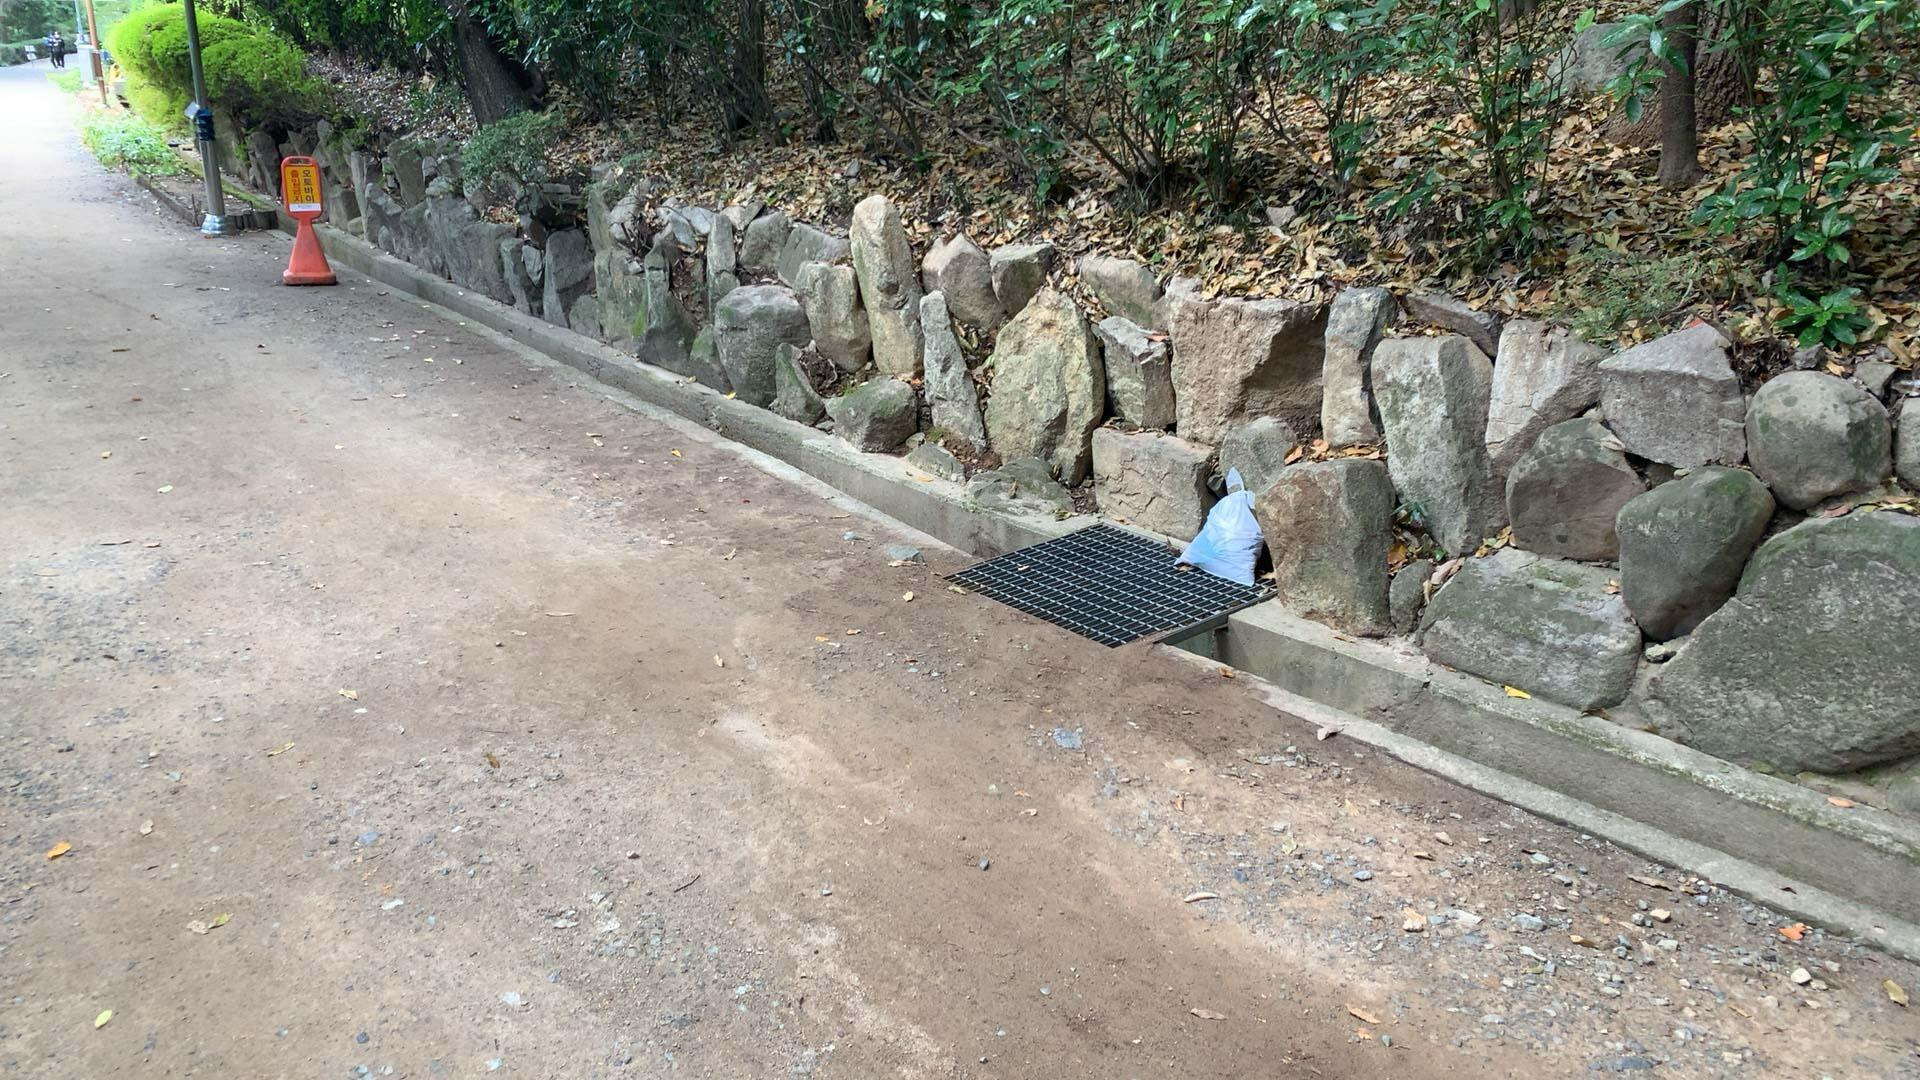white_bag: (1168, 456, 1284, 595)
